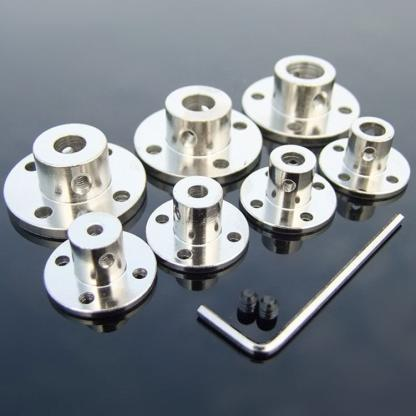FOD: (0, 120, 149, 240), (131, 81, 264, 191), (37, 207, 160, 322), (237, 51, 363, 149), (142, 174, 253, 277), (237, 138, 340, 236), (316, 115, 412, 202)
